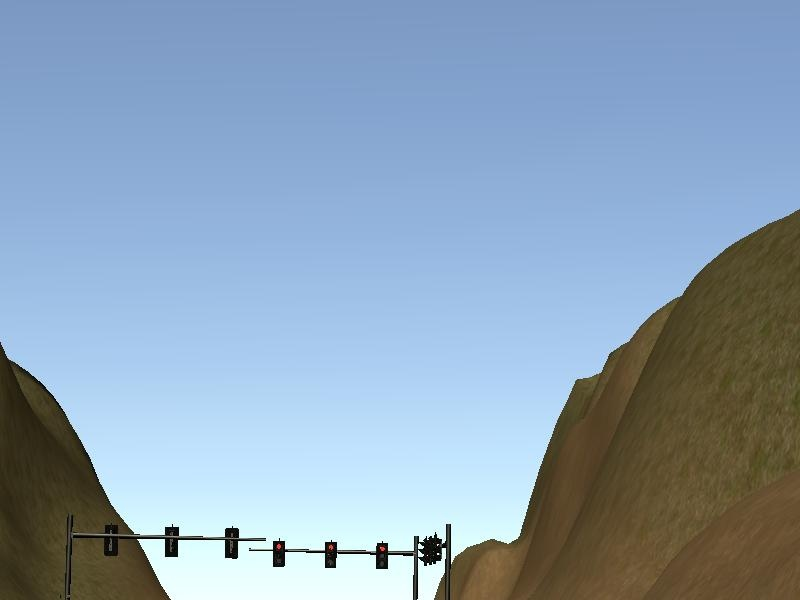traffic_light_red: (255, 538, 414, 570)
